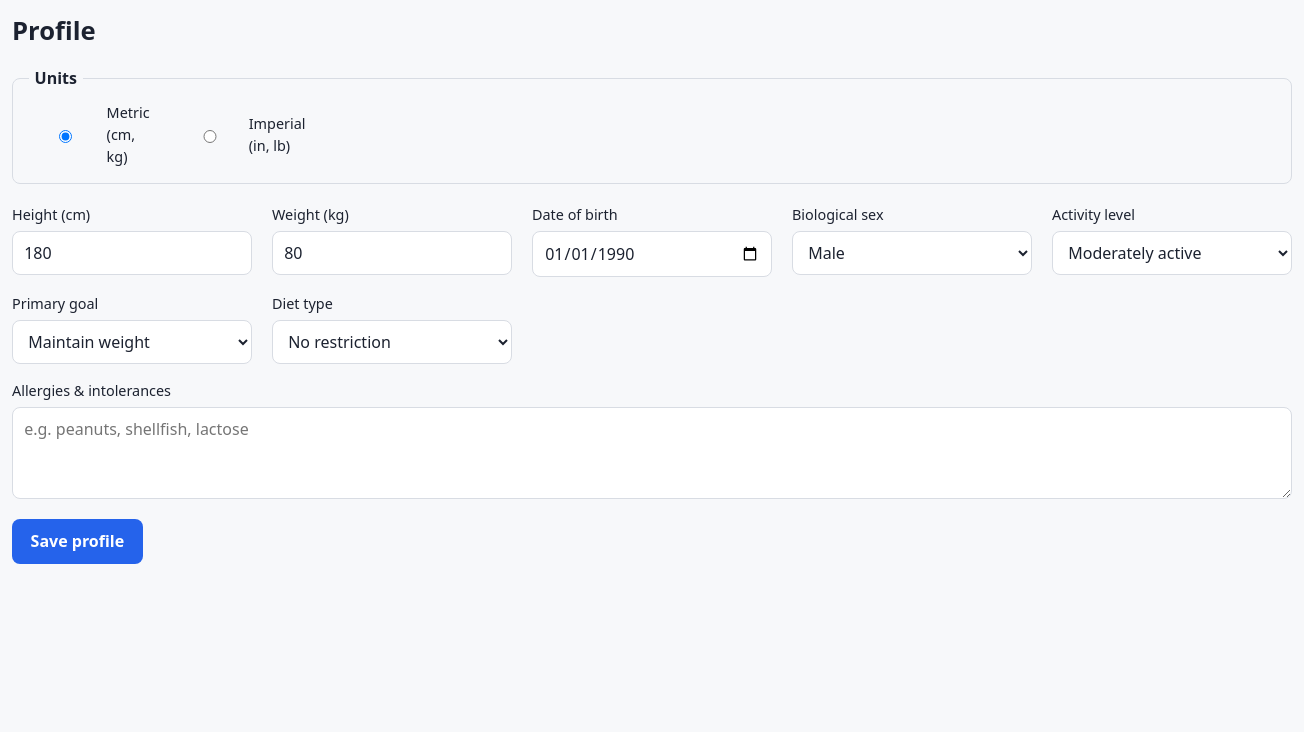
Test: ProfilePage › switches height and weight labels when the units toggle changes
Expected: the number field labelled "Height (cm)" is shown, [12,231,252,275]
Step 1. Click the radio button labelled "Imperial (in, lb)" → (210, 136), box [181,130,239,143]
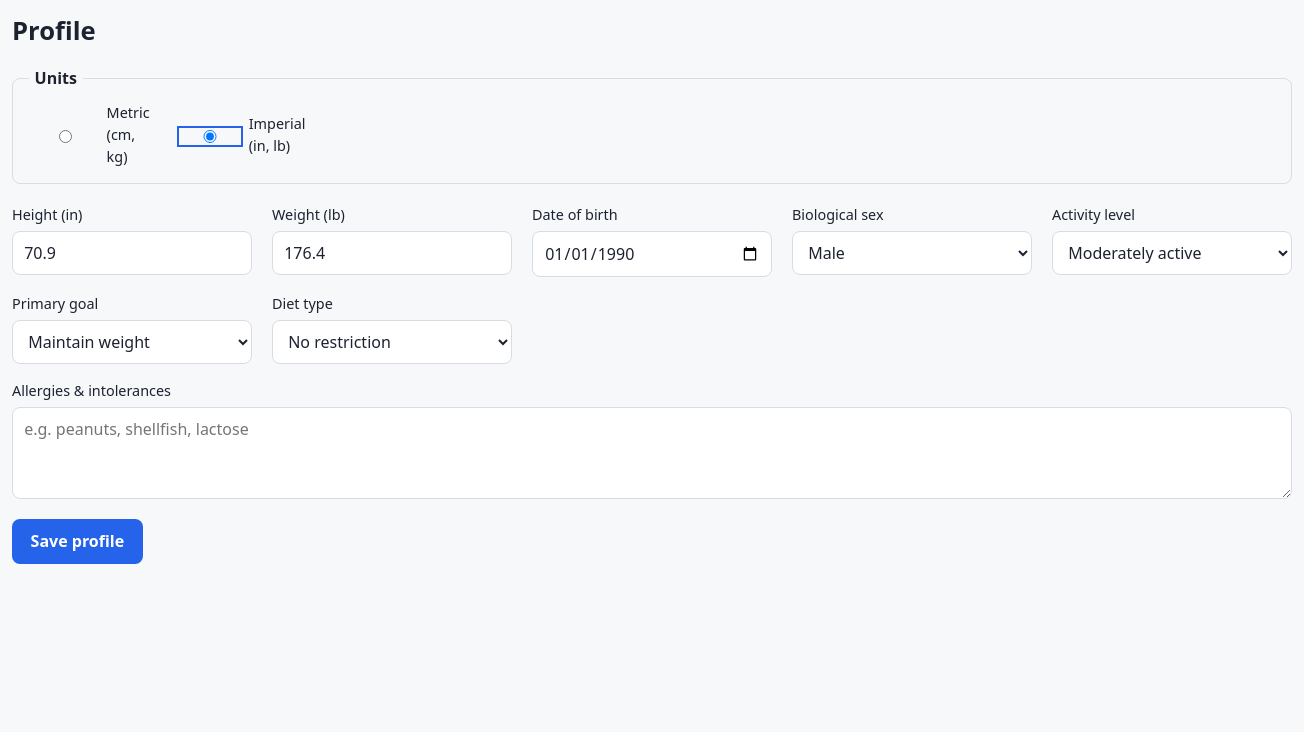
Expected: the number field labelled "Weight (lb)" is shown, [272,231,512,275]
Expected: the number field labelled "Height (in)" holds "70.9", [12,231,252,275]
